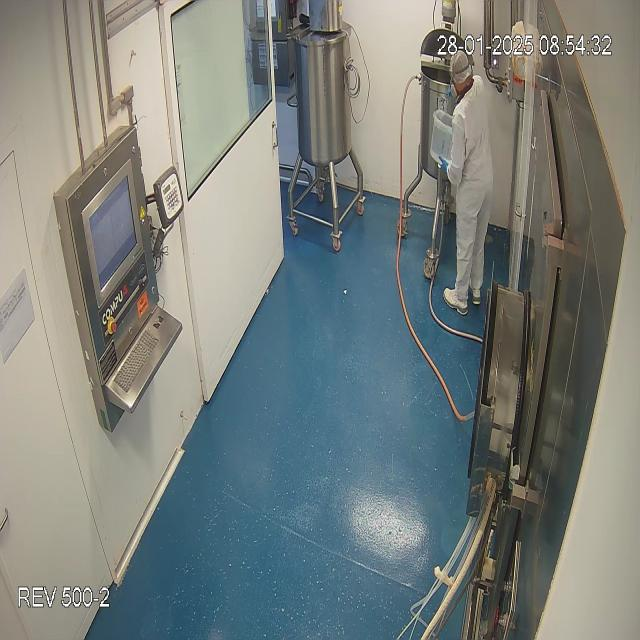bota: (442, 284, 483, 316)
pessoa: (438, 49, 493, 317)
touca: (448, 51, 474, 86)
